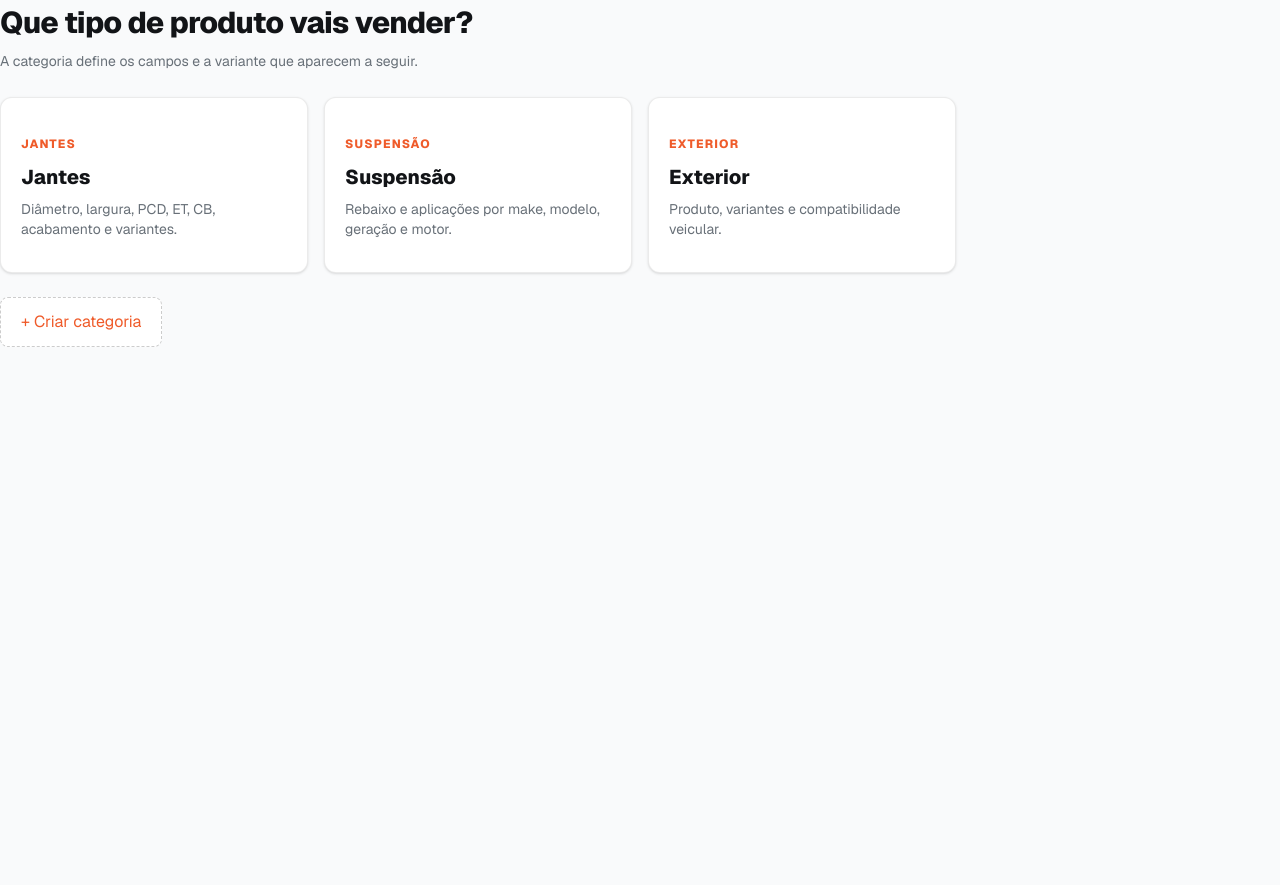
Test: ProductEditorClient › mostra rebaixamento e aplicações para suspensão
Click the button "Suspensão" at (388,144), box left=324, top=97, right=632, bottom=273
(page scrolled)
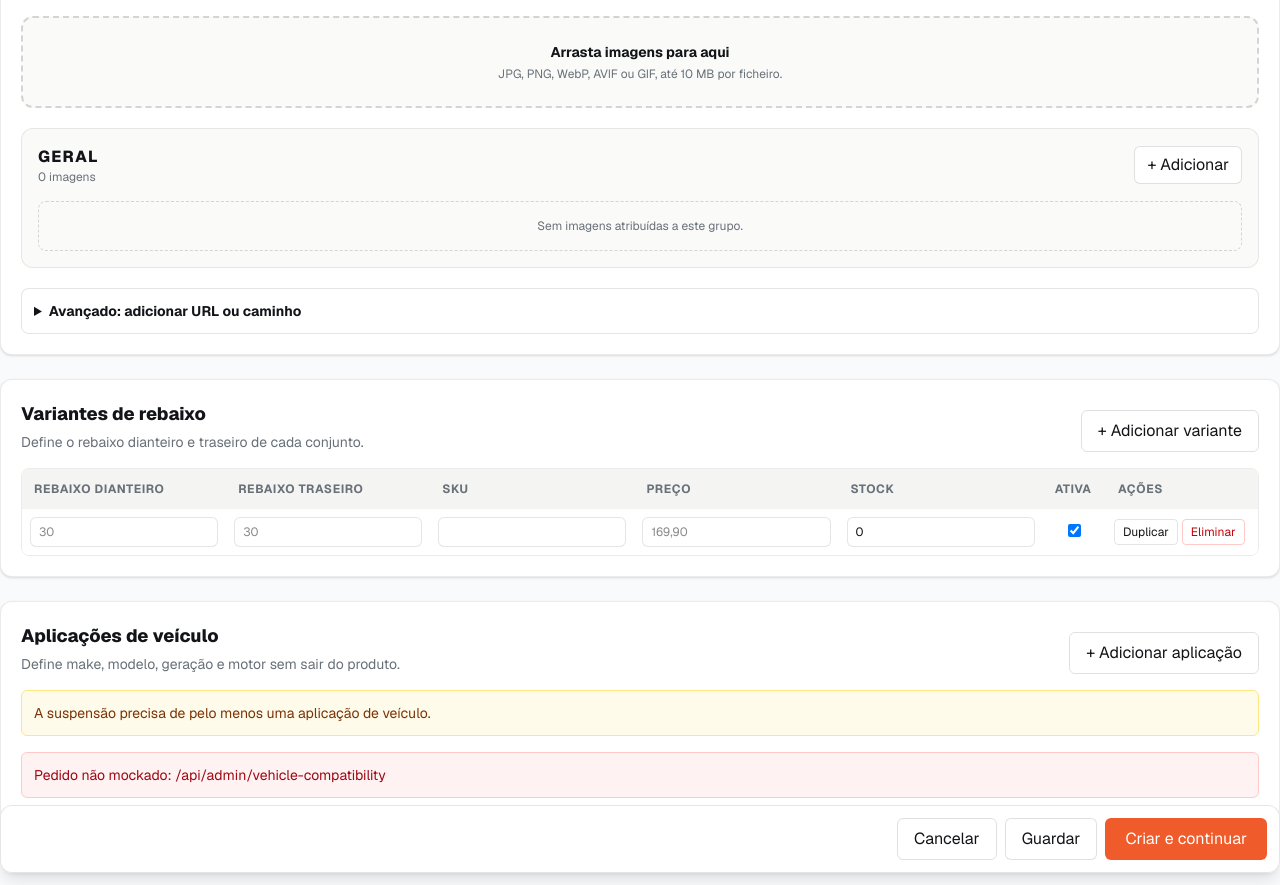
Expected: the column heading "Rebaixo dianteiro" is shown, left=22, top=469, right=226, bottom=509
Expected: the column heading "Rebaixo traseiro" is shown, left=226, top=469, right=430, bottom=509
Expected: the heading "Aplicações de veículo" is shown, left=21, top=624, right=219, bottom=647
